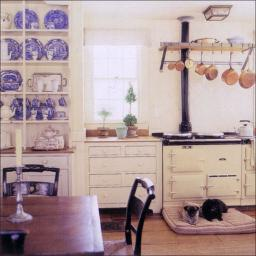Otro Obstaculo: (158, 211, 253, 236), (202, 199, 226, 223), (182, 198, 199, 228)
